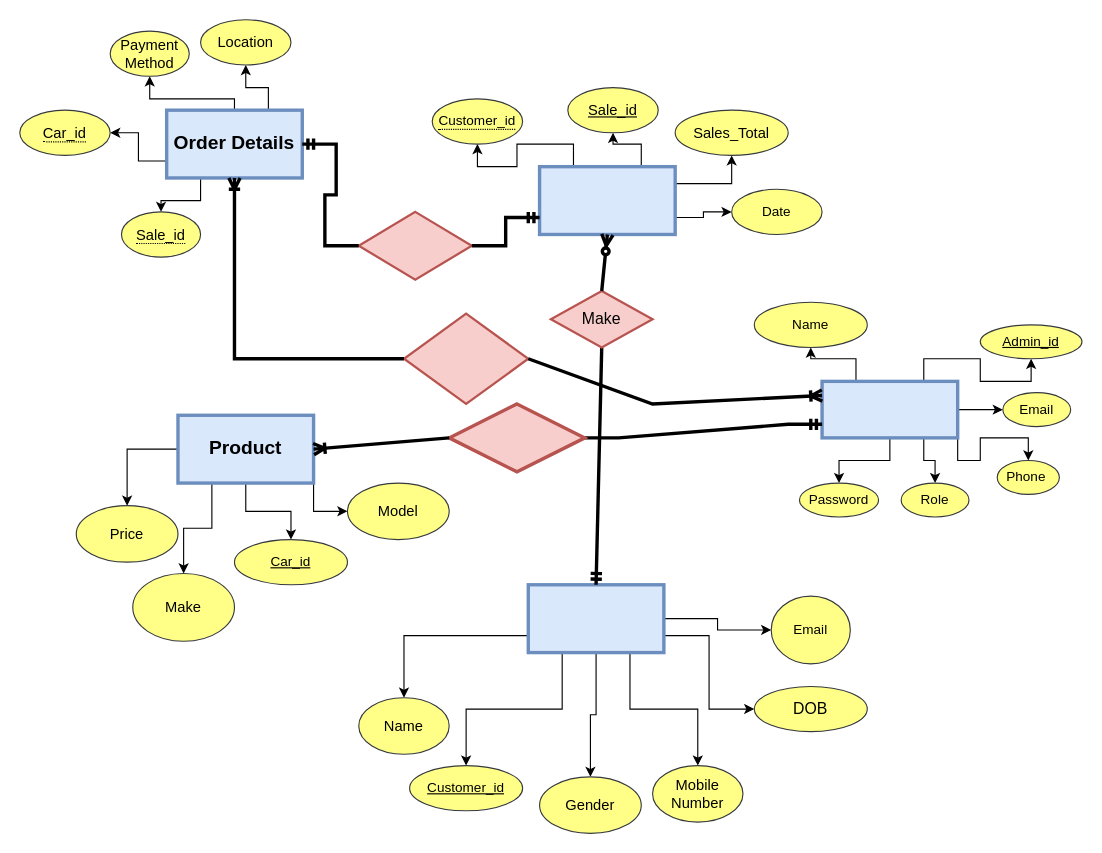
Some shapes in this 1102 by 853 pixel diagram are drawn without their labels. Each missing label, with the centre of its shape:
Admins: the point at 889,409
Check: the point at 465,358
Customer: the point at 595,618
Has: the point at 414,245
Order: the point at 606,200
Update: the point at 516,437
